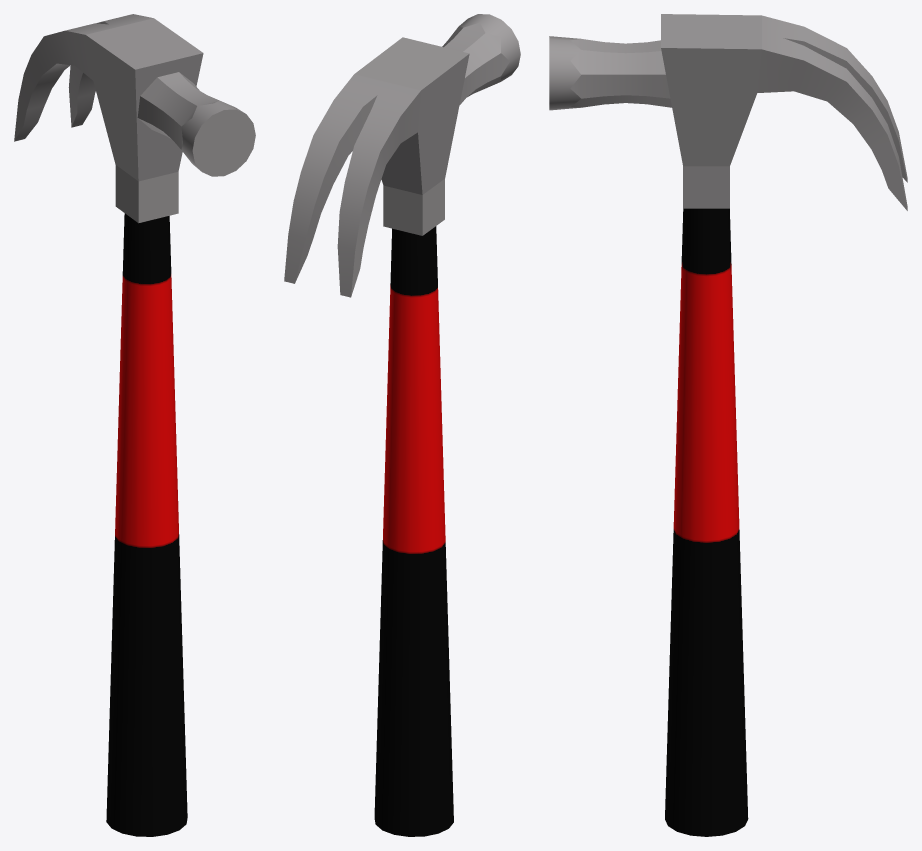
File: Hammer.fbx
The picture shows the model from 3 angles, left to right: view 1: azimuth 30°, elevation 25°; view 2: azimuth 150°, elevation 25°; view 3: azimuth 270°, elevation 25°; orthographic projection. The views are drawn at different scales.
Parts seen in each view (by area): view 1: Hammer; view 2: Hammer; view 3: Hammer.
Part boxes in pixels (bbox=[...]): Hammer: bbox=[14, 14, 255, 836]; Hammer: bbox=[284, 14, 520, 836]; Hammer: bbox=[549, 14, 907, 836].
Size of the model in its own units: 3.23 by 33.71 by 13.87.
